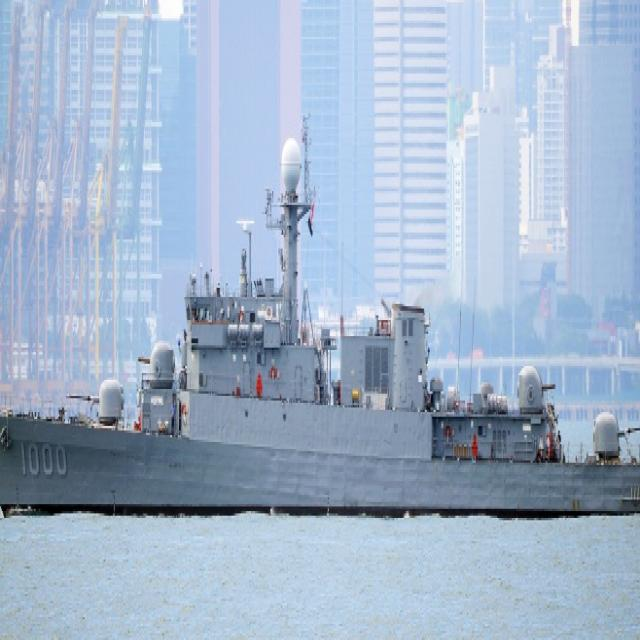Fragata: (1, 128, 640, 531)
